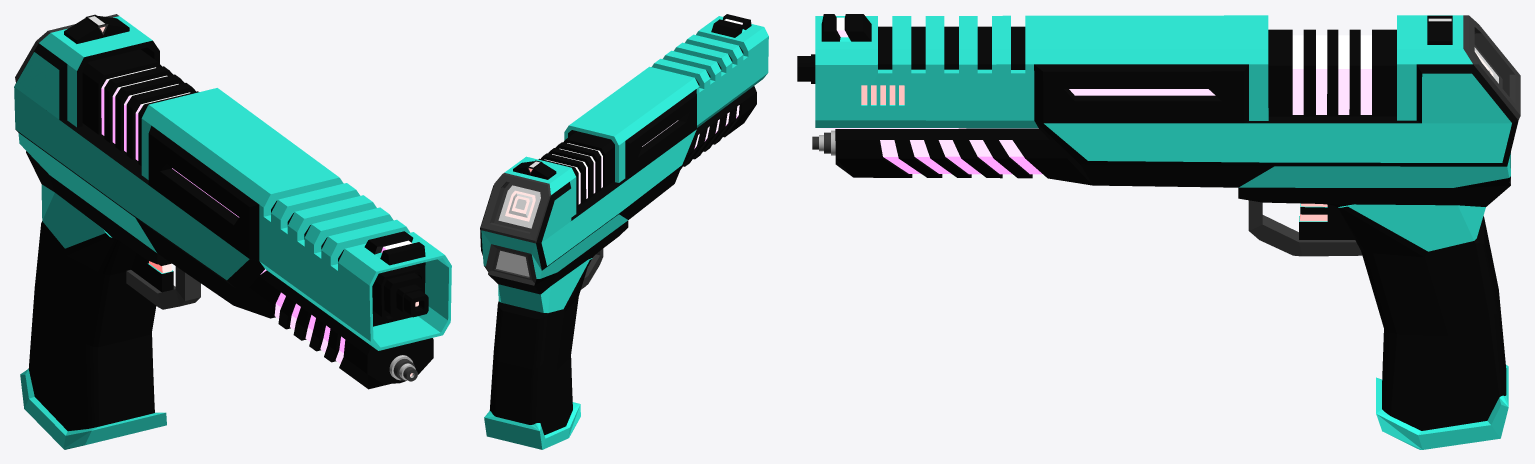
Rendered from sci-fi_gun.glb.
3 views of the same model, side by side, from view 1: azimuth 30°, elevation 25°; view 2: azimuth 150°, elevation 25°; view 3: azimuth 270°, elevation 25° (orthographic). The views are drawn at different scales.
Parts seen in each view (by area): view 1: Cube_2; view 2: Cube_2; view 3: Cube_2.
Boxes of the visible parts, bbox=[...] form: Cube_2: bbox=[14, 14, 451, 449]; Cube_2: bbox=[480, 14, 768, 449]; Cube_2: bbox=[797, 14, 1520, 449].
Bounding box in the file's own units: 0.7636 × 2.99 × 4.79.
